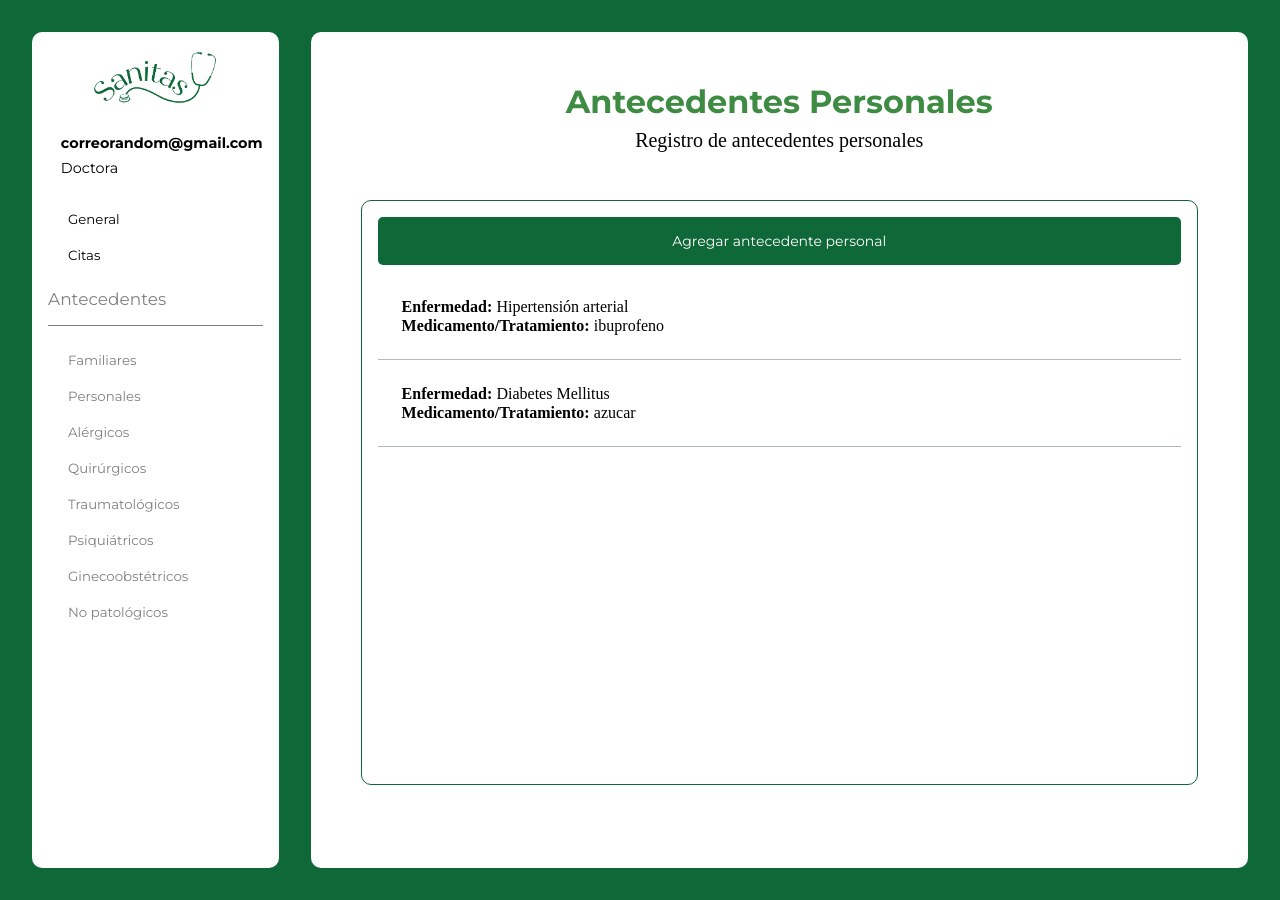
Scenario: PersonalHistory Component Tests › opens new form on button click
expect the text "Agregar antecedente personal" is shown: met, box left=672, top=232, right=886, bottom=250
Click the button "Agregar antecedente personal".
click(779, 241)  # box left=378, top=217, right=1181, bottom=265
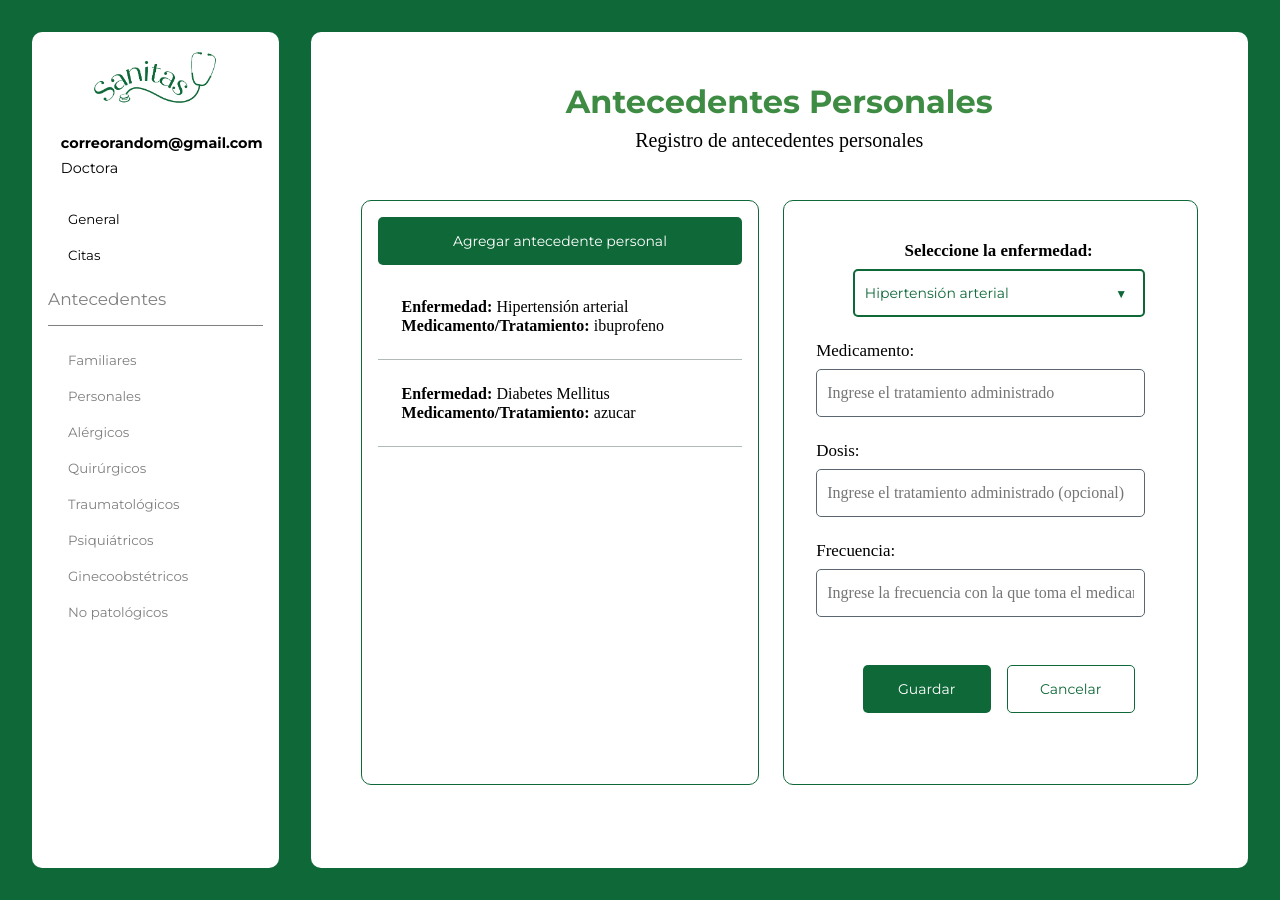
expect the text "Guardar" is shown: met, box left=898, top=680, right=955, bottom=698
